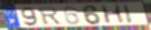6: (82, 4, 103, 25), (63, 5, 81, 25)
9: (20, 6, 40, 27)
H: (99, 4, 126, 25)
I: (123, 4, 135, 25)
R: (38, 6, 63, 26)
